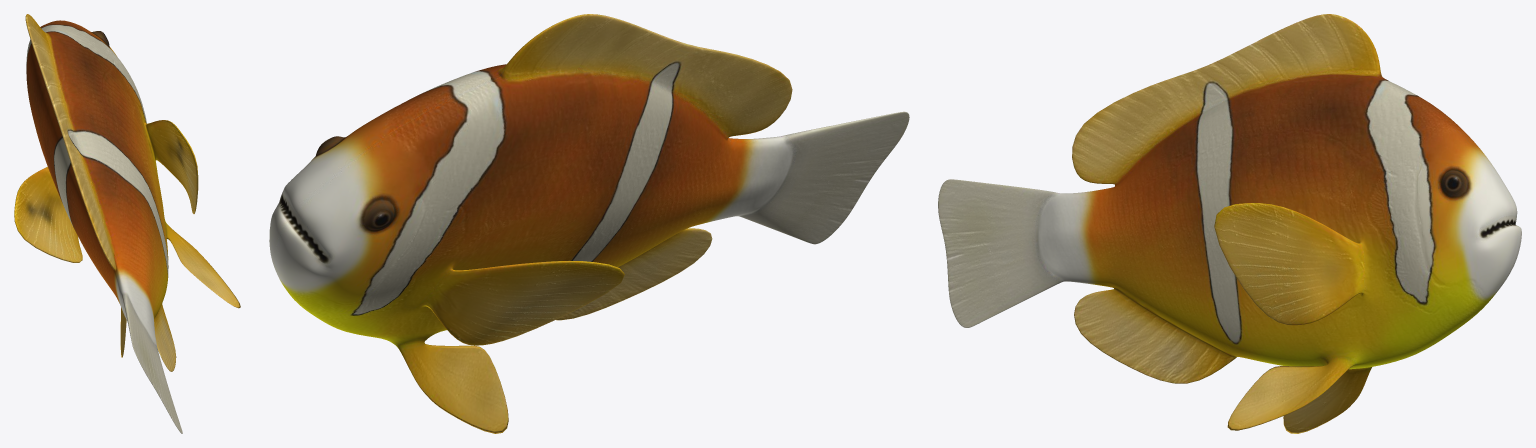
Rendered from fish.glb.
3 renders of one model, left to right at view 1: azimuth 30°, elevation 25°; view 2: azimuth 150°, elevation 25°; view 3: azimuth 270°, elevation 25°, orthographic. The views are drawn at different scales.
Visible parts, largest first — view 1: 12265_Fish_v1_L2; view 2: 12265_Fish_v1_L2; view 3: 12265_Fish_v1_L2.
Part boxes in pixels (x1,y1,x2,y2): 12265_Fish_v1_L2: [14, 14, 240, 433]; 12265_Fish_v1_L2: [269, 14, 909, 433]; 12265_Fish_v1_L2: [938, 14, 1521, 433].
Bounding box in the file's own units: 13.81 × 18.84 × 26.34.
1 material, 1 textured.
